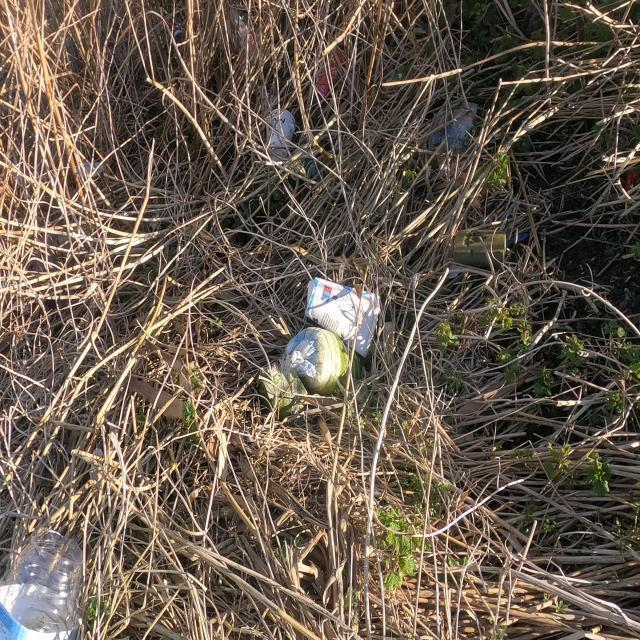Can-Metal: (452, 228, 507, 270), (309, 42, 347, 98), (299, 155, 324, 189)
Cup: (303, 276, 380, 360), (265, 108, 296, 164)
